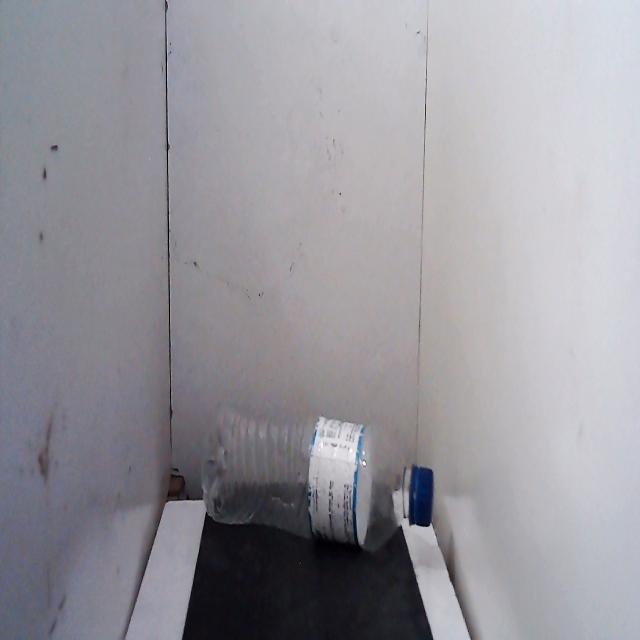plastico: (193, 386, 438, 562)
